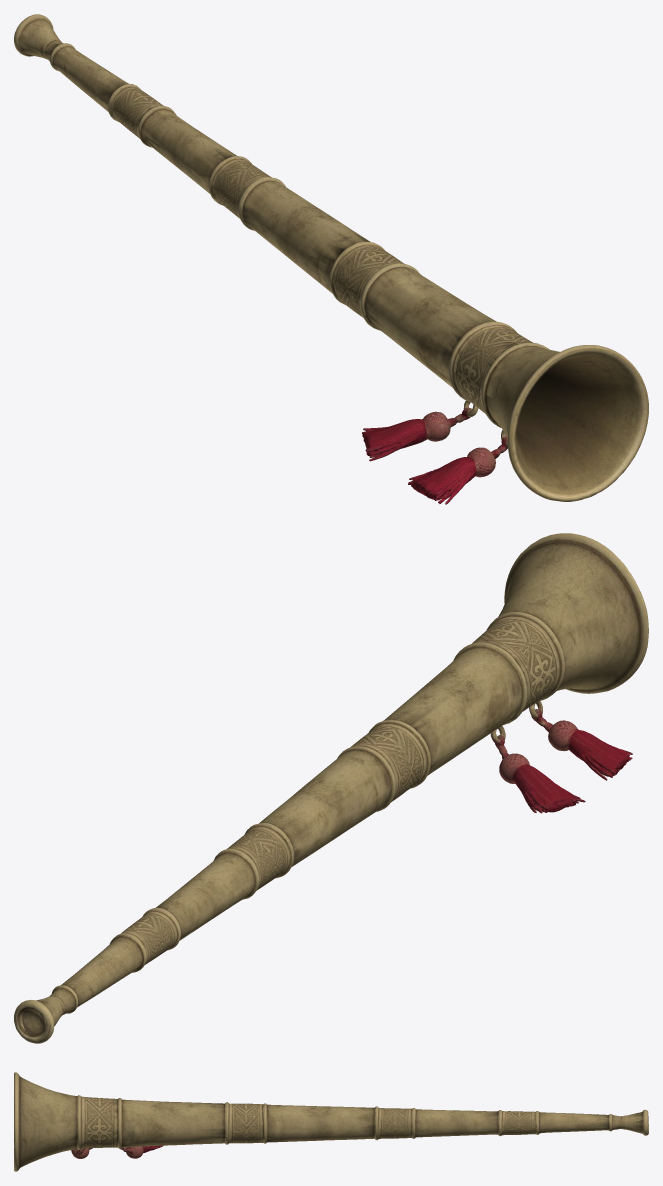
Rendered from kerney.glb.
3 views of the same model, one above another, from view 1: azimuth 30°, elevation 25°; view 2: azimuth 150°, elevation 25°; view 3: azimuth 270°, elevation 25° (orthographic). The views are drawn at different scales.
Size of the model in its own units: 0.3622 by 0.3243 by 1.9.
1 material, 1 textured.
